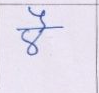ai_matra: (28, 6, 49, 26)
